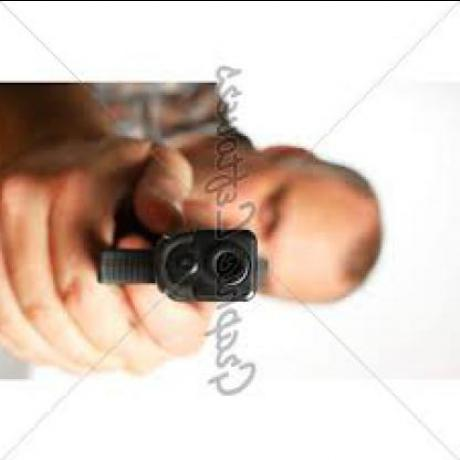1: (2, 78, 386, 379)
weapon: (57, 192, 279, 320)
